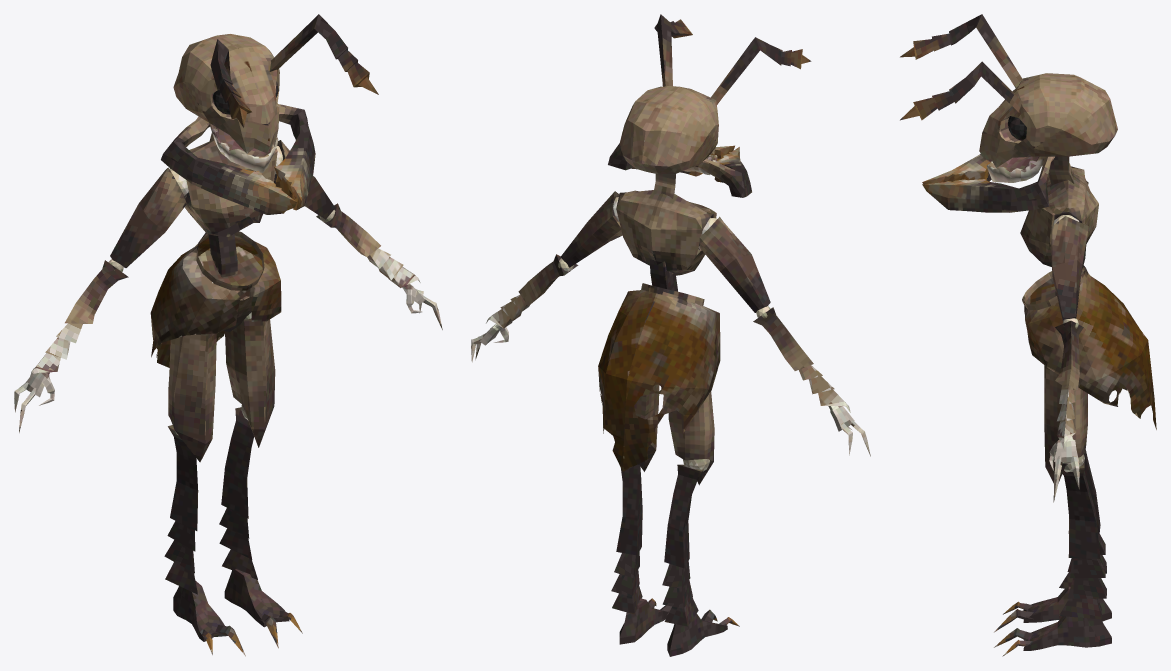
The model's file is Ant_v8.fbx.
3 views of the same model, side by side, from view 1: azimuth 30°, elevation 25°; view 2: azimuth 150°, elevation 25°; view 3: azimuth 270°, elevation 25° (orthographic). The views are drawn at different scales.
Parts seen in each view (by area): view 1: Thigh, Loin Cloth, Head.001, Shins, Mandibles, Arms, Upper Arms, Grippers, Antennae, Torso, Pelvis, Hands (+2 smaller); view 2: Loin Cloth, Shins, Head.001, Torso, Upper Arms, Arms, Thigh, Grippers, Antennae, Mandibles, Hands, Spine; view 3: Loin Cloth, Head.001, Shins, Mandibles, Grippers, Antennae, Torso, Upper Arms, Thigh, Arms, Jaw, Hands (+1 smaller).
Boxes of the visible parts, left/top/right/bottom form: Thigh: left=168, top=312, right=275, bottom=462; Loin Cloth: left=150, top=231, right=281, bottom=367; Head.001: left=173, top=34, right=279, bottom=153; Shins: left=164, top=405, right=257, bottom=594; Mandibles: left=161, top=104, right=315, bottom=214; Arms: left=29, top=203, right=420, bottom=378; Upper Arms: left=110, top=140, right=335, bottom=267; Grippers: left=173, top=568, right=302, bottom=656; Antennae: left=210, top=14, right=378, bottom=127; Torso: left=170, top=140, right=277, bottom=236; Pelvis: left=198, top=246, right=262, bottom=331; Hands: left=14, top=284, right=442, bottom=432; Loin Cloth: left=598, top=283, right=720, bottom=471; Shins: left=611, top=459, right=709, bottom=626; Head.001: left=619, top=86, right=718, bottom=174; Torso: left=616, top=190, right=716, bottom=275; Upper Arms: left=561, top=191, right=770, bottom=312; Arms: left=486, top=254, right=850, bottom=412; Thigh: left=634, top=384, right=714, bottom=485; Grippers: left=619, top=598, right=739, bottom=656; Antennae: left=654, top=14, right=811, bottom=104; Mandibles: left=608, top=143, right=751, bottom=197; Hands: left=471, top=324, right=870, bottom=456; Spine: left=649, top=258, right=677, bottom=291; Loin Cloth: left=1022, top=265, right=1156, bottom=429; Head.001: left=979, top=73, right=1117, bottom=167; Shins: left=1059, top=450, right=1106, bottom=619; Mandibles: left=922, top=154, right=1054, bottom=212; Grippers: left=994, top=586, right=1111, bottom=656; Antennae: left=900, top=14, right=1022, bottom=120; Torso: left=1020, top=166, right=1098, bottom=266; Upper Arms: left=1050, top=181, right=1088, bottom=321; Thigh: left=1044, top=365, right=1087, bottom=483; Arms: left=1055, top=318, right=1083, bottom=449; Jaw: left=986, top=156, right=1044, bottom=182; Hands: left=1049, top=436, right=1079, bottom=502.
Bounding box in the file's own units: 380 × 541 × 209.
